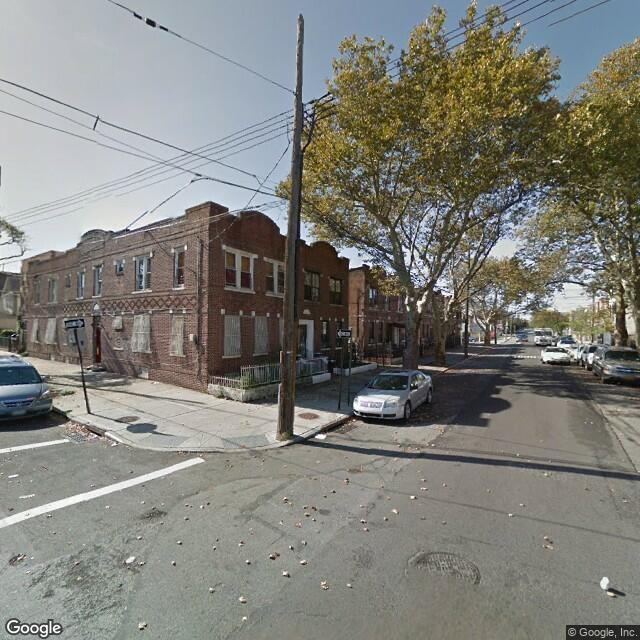litter: (280, 493, 328, 529), (56, 424, 119, 445), (595, 571, 629, 608), (233, 589, 262, 608), (264, 554, 295, 565), (278, 570, 292, 580)
